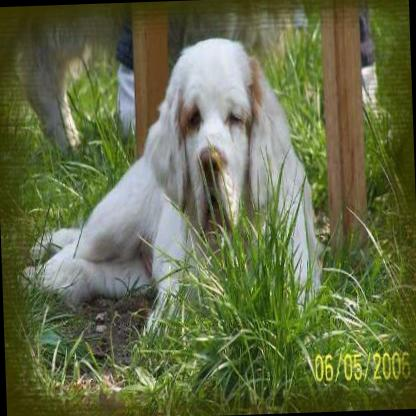Sussex_spaniel: (10, 32, 324, 347)
